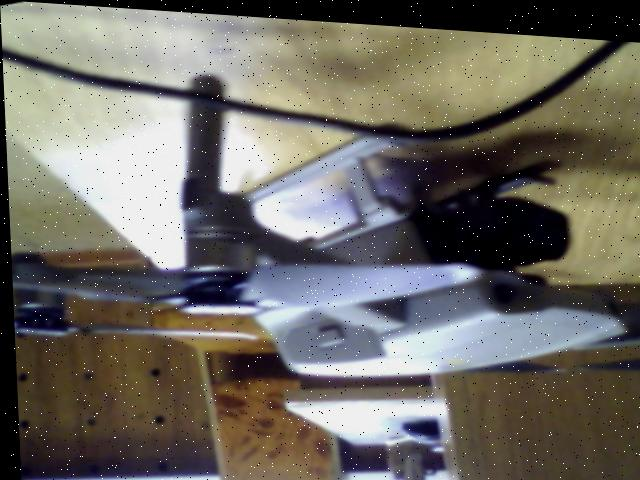drone: (12, 65, 640, 406)
